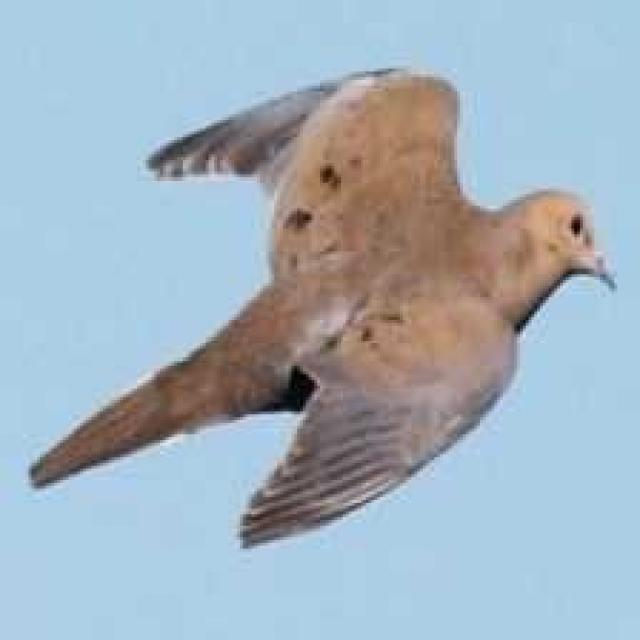bird: (25, 64, 624, 543)
